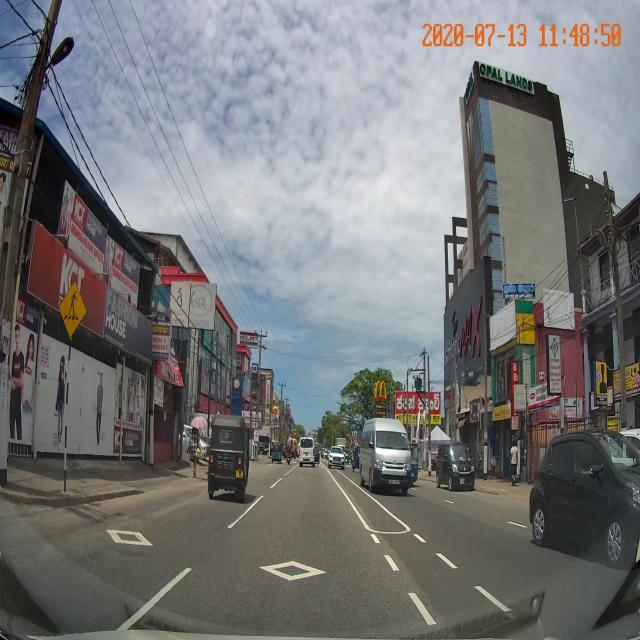Romb: (258, 559, 328, 582), (105, 529, 155, 547)
